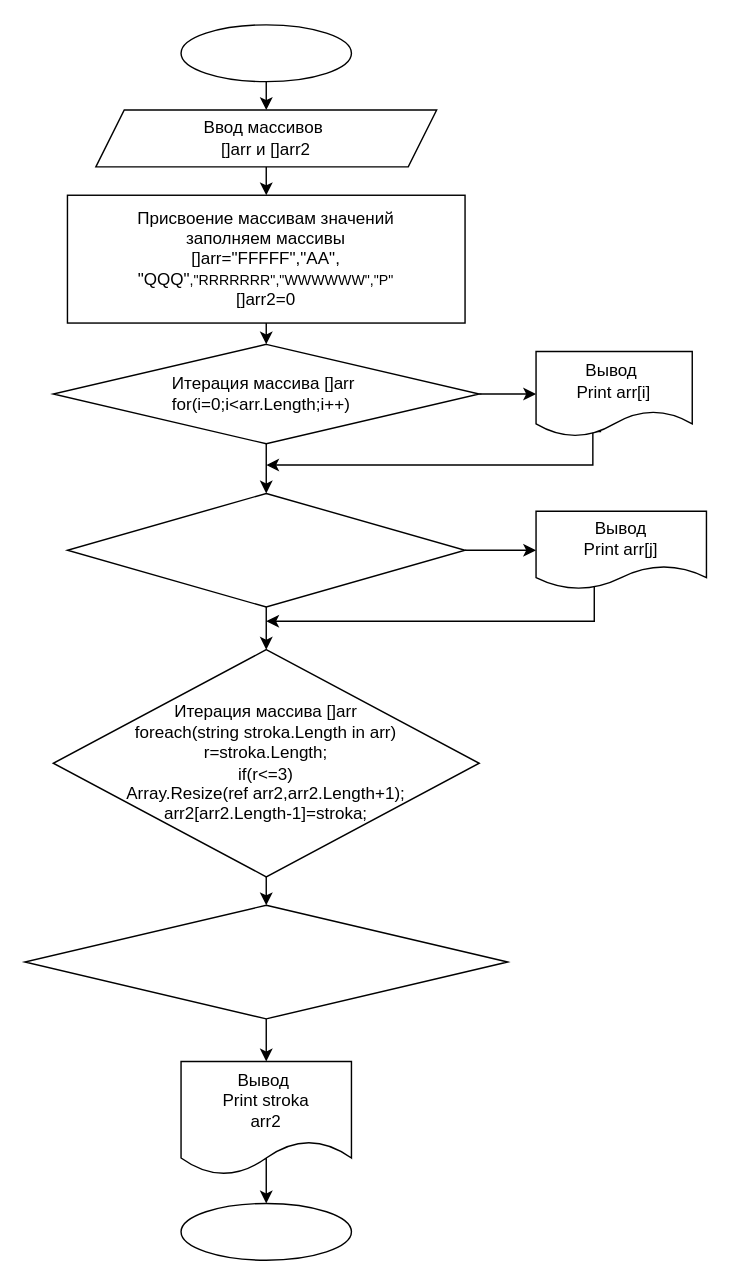
Image size: 731x1285. Some labels were removed from this diagram. The centre of each missing label's shape, as x and y in pixels:
"Итерация массива []arr2 foreach(string stroka in arr2)" goes at [265,961].
"Итерация массива[]arr for(j=0;j<arr.Length;j++) if(arr[j].ength<=3)" goes at [265,549].
"Конец" goes at [265,1231].
"Начало" goes at [265,52].
